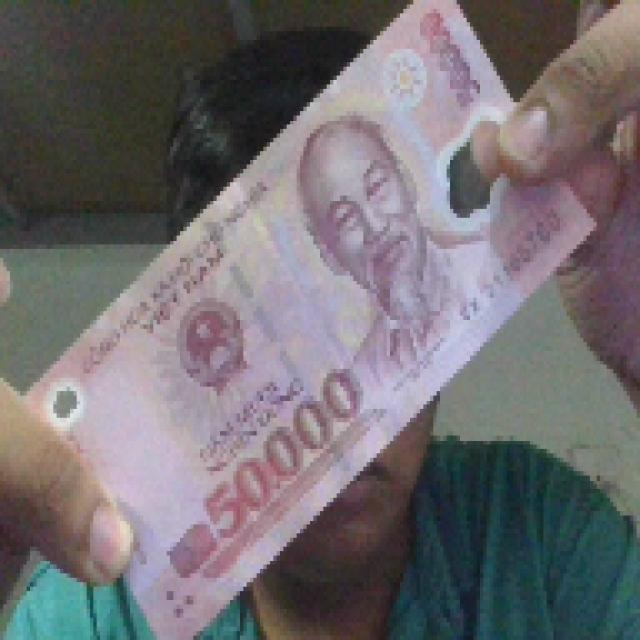50 000 VND: (13, 0, 600, 636)
